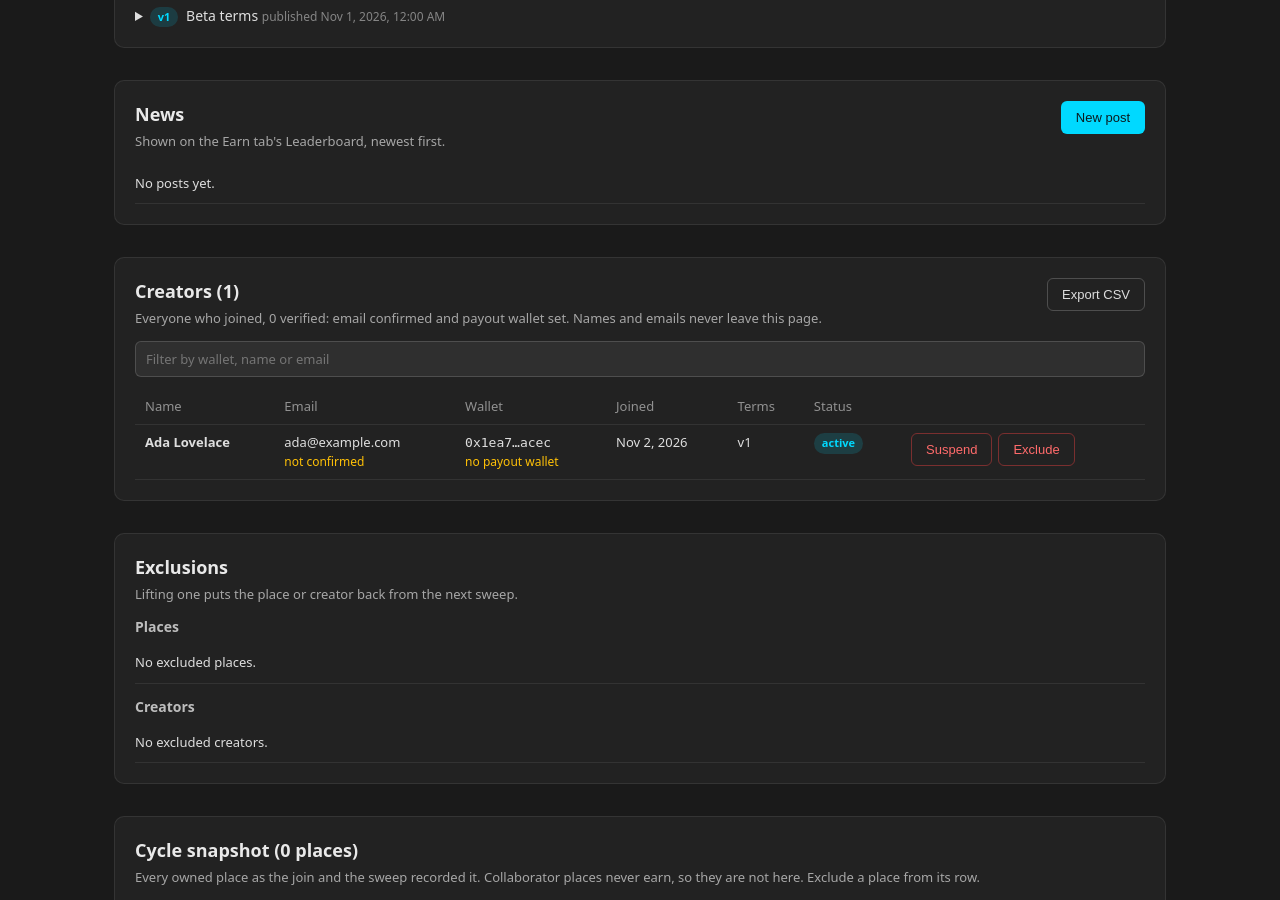
Test: CreatorFundPage › does nothing when the dialog is cancelled
(page scrolled)
Click the button "Suspend": click(952, 450) x1=911 y1=433 x2=992 y2=466
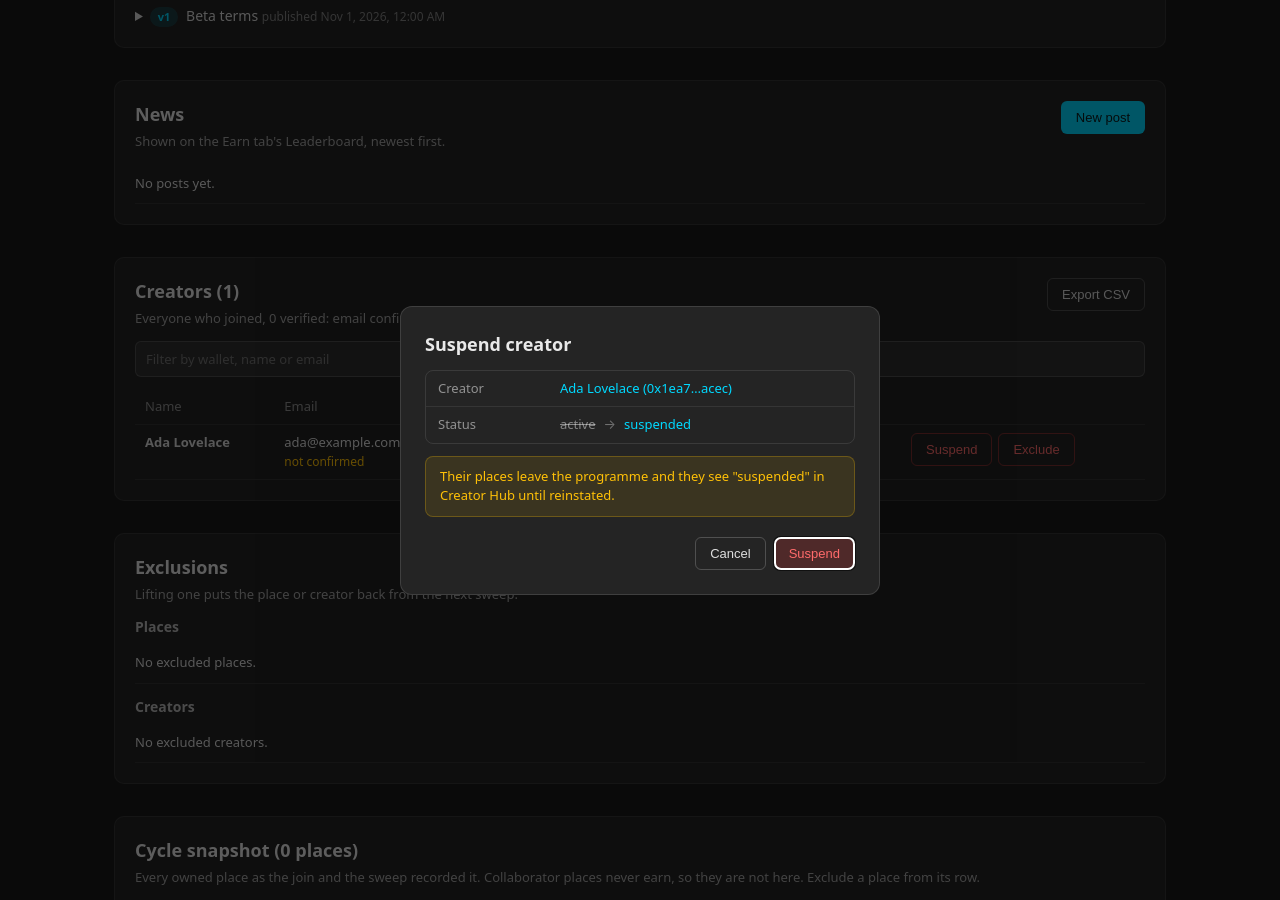
Click the button "Cancel": click(730, 553) x1=695 y1=536 x2=766 y2=570
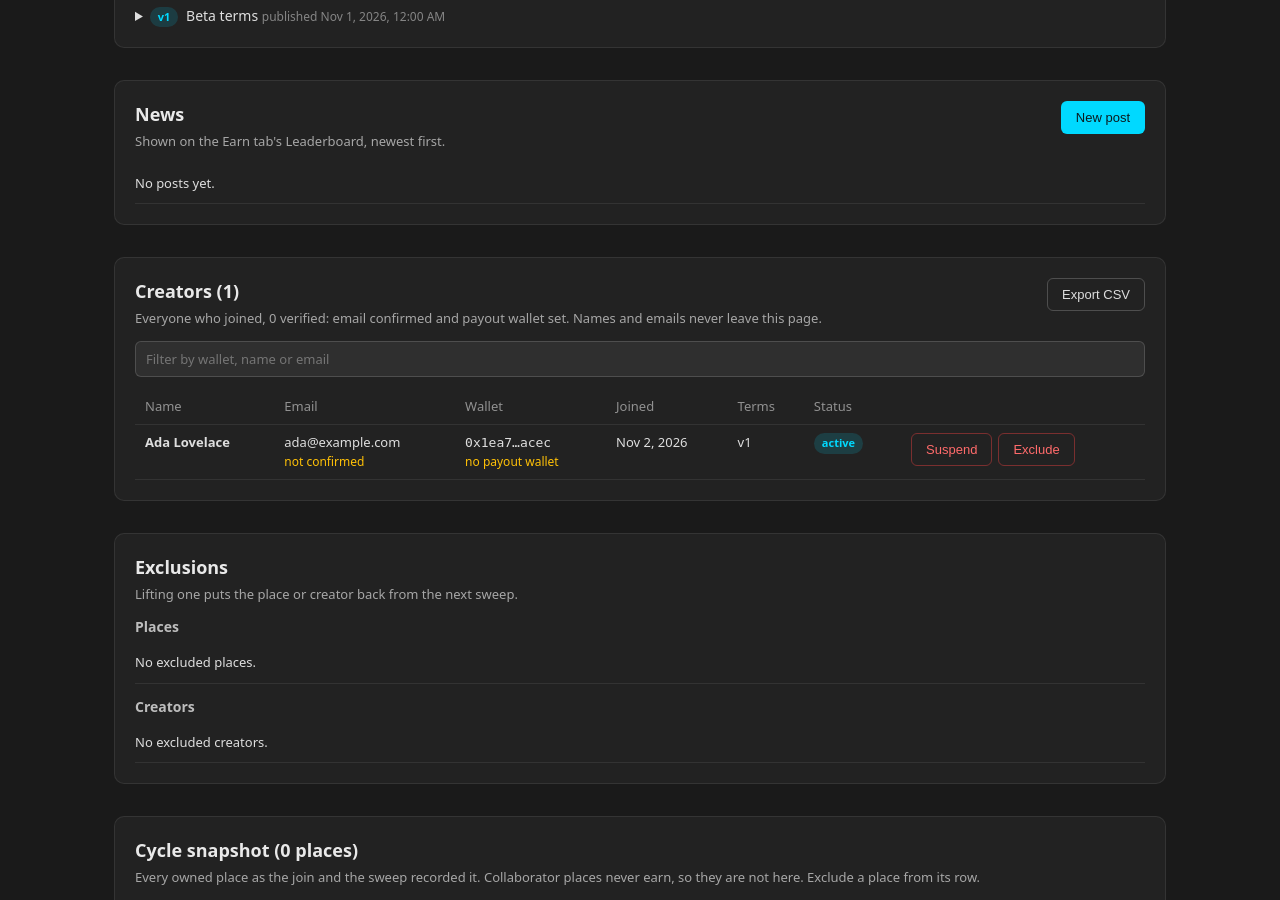
Expected: the dialog is gone
